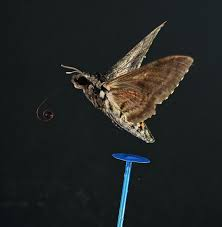insect: (61, 20, 195, 143)
